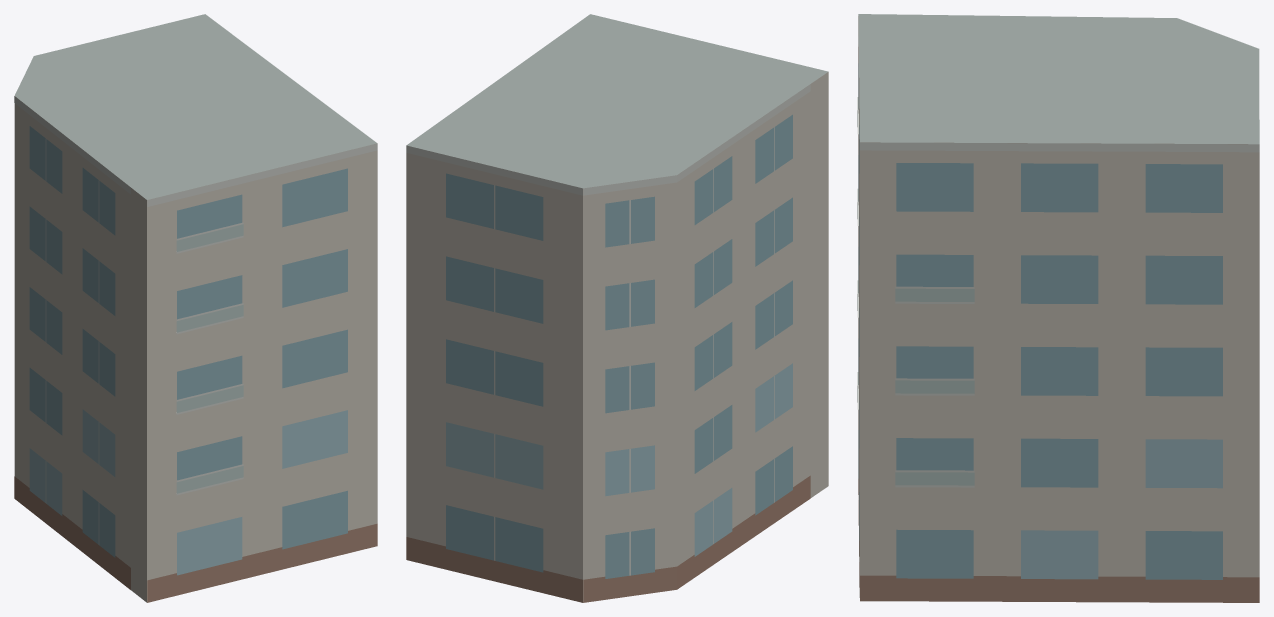
The model's file is survey-upis-32780951.glb.
The picture shows the model from 3 angles, left to right: view 1: azimuth 30°, elevation 25°; view 2: azimuth 150°, elevation 25°; view 3: azimuth 270°, elevation 25°; orthographic projection. The views are drawn at different scales.
Parts seen in each view (by area): view 1: survey-upis-32780951.tmp; view 2: survey-upis-32780951.tmp; view 3: survey-upis-32780951.tmp.
Boxes of the visible parts, x1,y1,x2,y2 form: survey-upis-32780951.tmp: [14, 14, 377, 602]; survey-upis-32780951.tmp: [406, 14, 828, 602]; survey-upis-32780951.tmp: [857, 14, 1259, 602].
Size of the model in its own units: 8.44 by 13.85 by 11.02.
